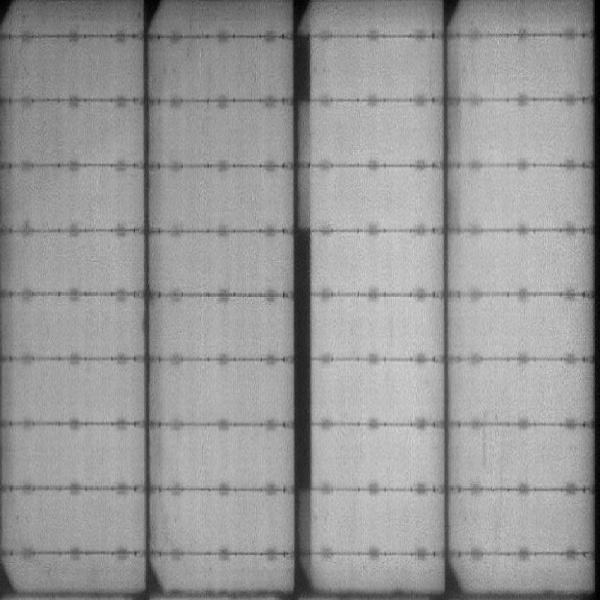black_border: (287, 32, 315, 571)
